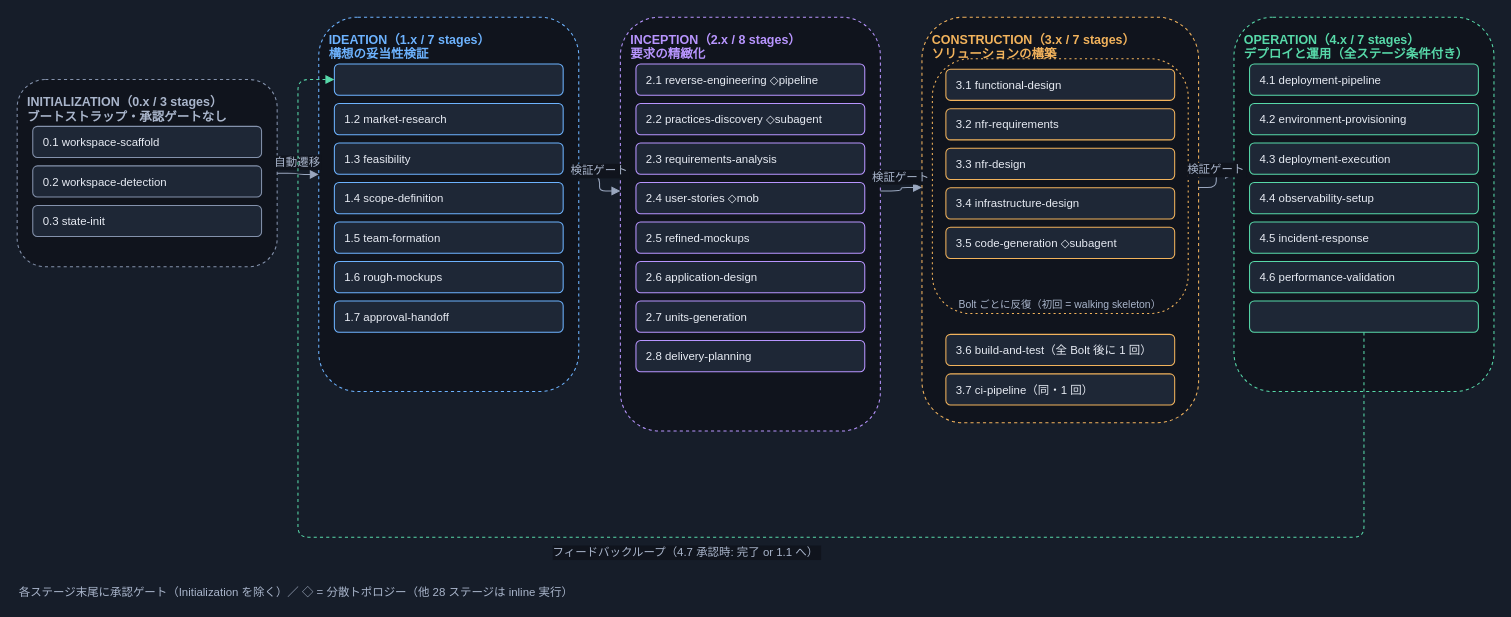
Some shapes in this 1511 by 617 pixel diagram are drawn without their labels. The shapes that lost their labels are listed below. From the top down, each one's centre as x and y in pixels, then its label:
[448,79]: 1.1 intent-capture
[1363,316]: 4.7 feedback-optimization（終端）
